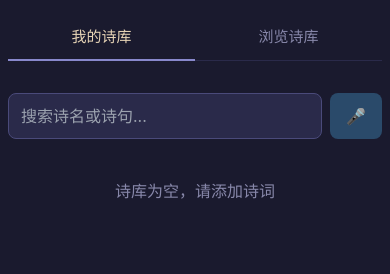
Scenario: LibraryTab › tapping a browse result opens PoemPreview
The width and height of the screenshot is (390, 274).
Click the tab "浏览诗库".
click(288, 38)  # box [195,16,382,60]
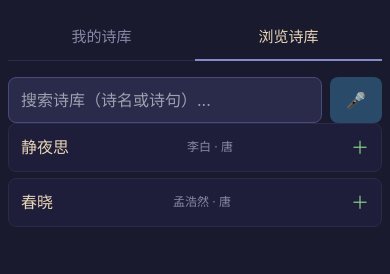
Click the button with aria-label "添加 静夜思".
click(195, 147)  # box [8,122,382,172]
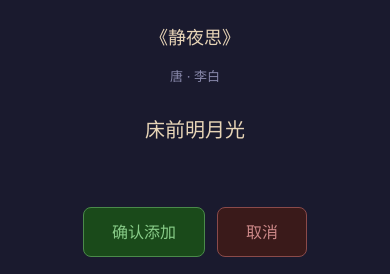
Now the button "确认添加" is shown, box [83,206,205,256]
